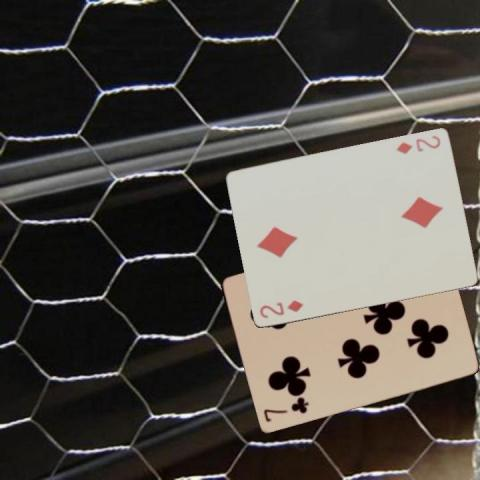2d: (394, 132, 443, 155), (256, 297, 304, 319)
7c: (260, 396, 310, 424)
